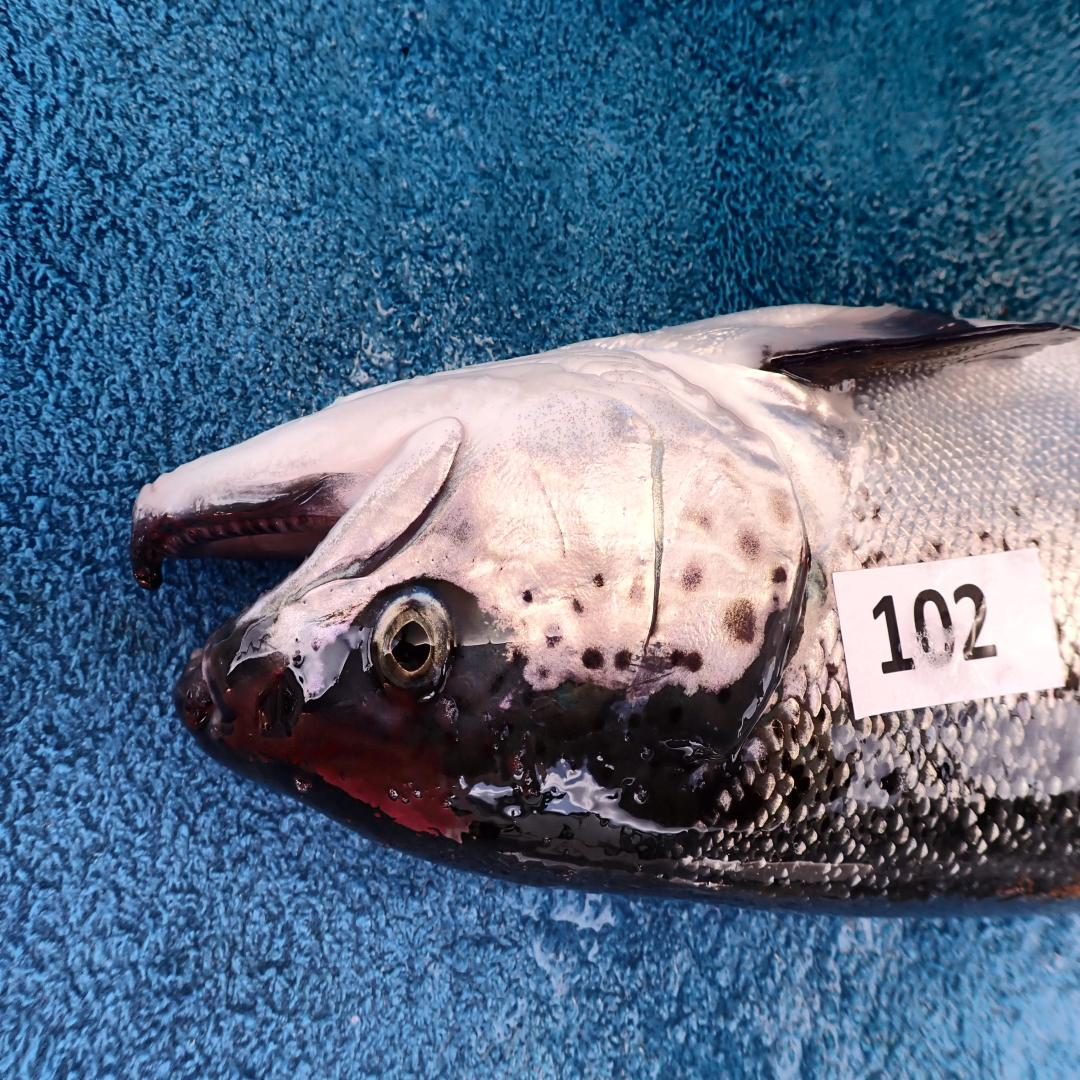spot: (724, 599, 755, 644), (736, 523, 766, 565), (768, 487, 797, 529), (677, 501, 713, 534), (671, 650, 702, 672), (681, 565, 702, 591), (544, 622, 563, 650), (629, 574, 645, 605), (582, 650, 603, 669), (614, 650, 631, 669), (772, 565, 787, 582), (572, 599, 584, 613), (523, 591, 534, 605), (538, 667, 551, 678), (593, 574, 603, 588), (772, 591, 780, 608)
